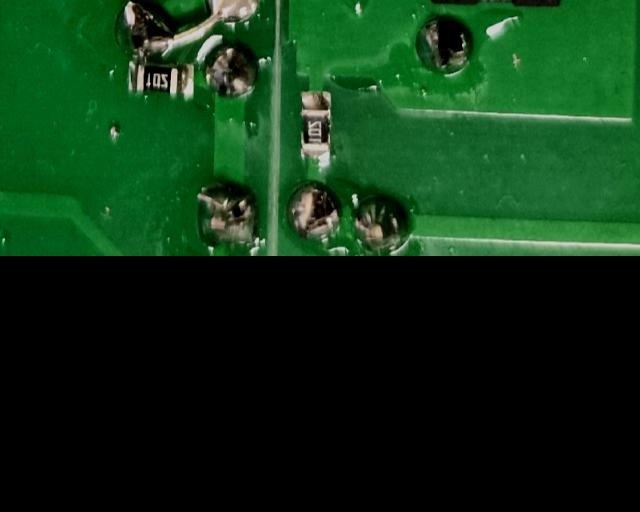chip-resistor: (123, 61, 196, 99), (295, 90, 333, 162)
